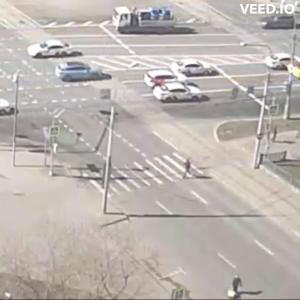car: (113, 2, 180, 37), (153, 82, 211, 104), (56, 61, 110, 84), (31, 42, 75, 60), (176, 61, 220, 79), (145, 70, 181, 89), (261, 16, 299, 32), (266, 55, 293, 72), (1, 99, 13, 117)
